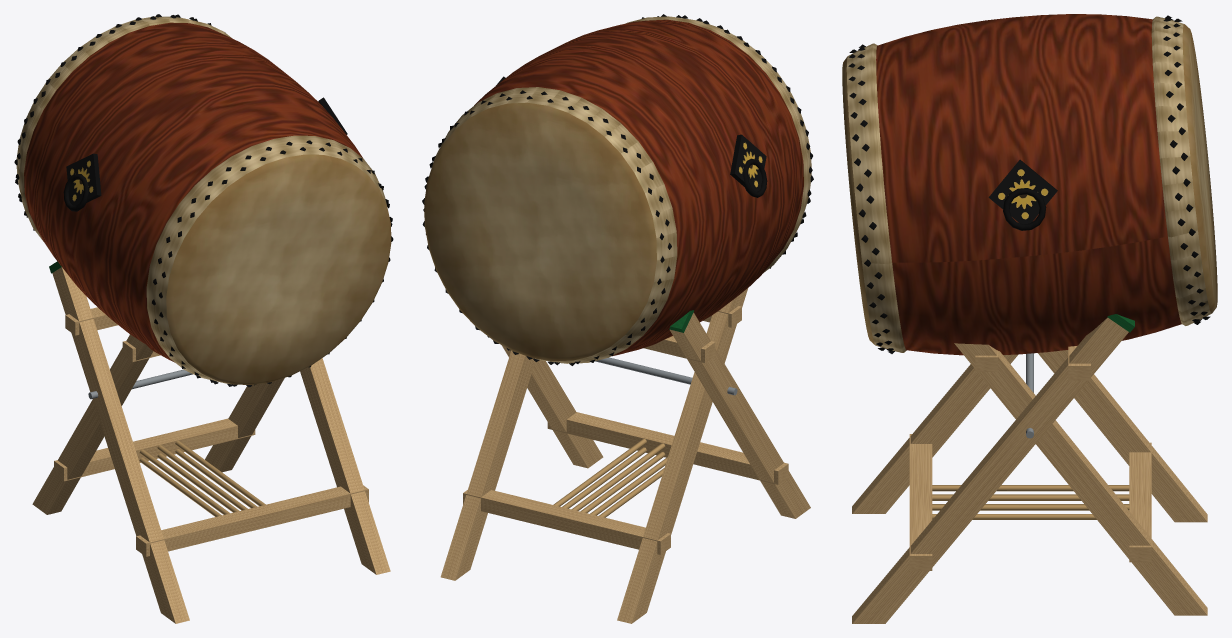
Rendered from inst_taiko_nagado.glb.
3 renders of one model, left to right at view 1: azimuth 30°, elevation 25°; view 2: azimuth 150°, elevation 25°; view 3: azimuth 270°, elevation 25°, orthographic. The views are drawn at different scales.
Visible parts, largest first — view 1: Odaiko_Drum, Odaiko_Stand; view 2: Odaiko_Drum, Odaiko_Stand; view 3: Odaiko_Drum, Odaiko_Stand.
Part boxes in pixels (x1,y1,x2,y2): Odaiko_Drum: [14, 14, 393, 387]; Odaiko_Stand: [32, 261, 390, 623]; Odaiko_Drum: [422, 14, 813, 365]; Odaiko_Stand: [440, 288, 810, 623]; Odaiko_Drum: [842, 14, 1217, 355]; Odaiko_Stand: [852, 314, 1207, 623].
Size of the model in its own units: 0.6955 by 1.16 by 0.7336.
1 material, 1 textured.
